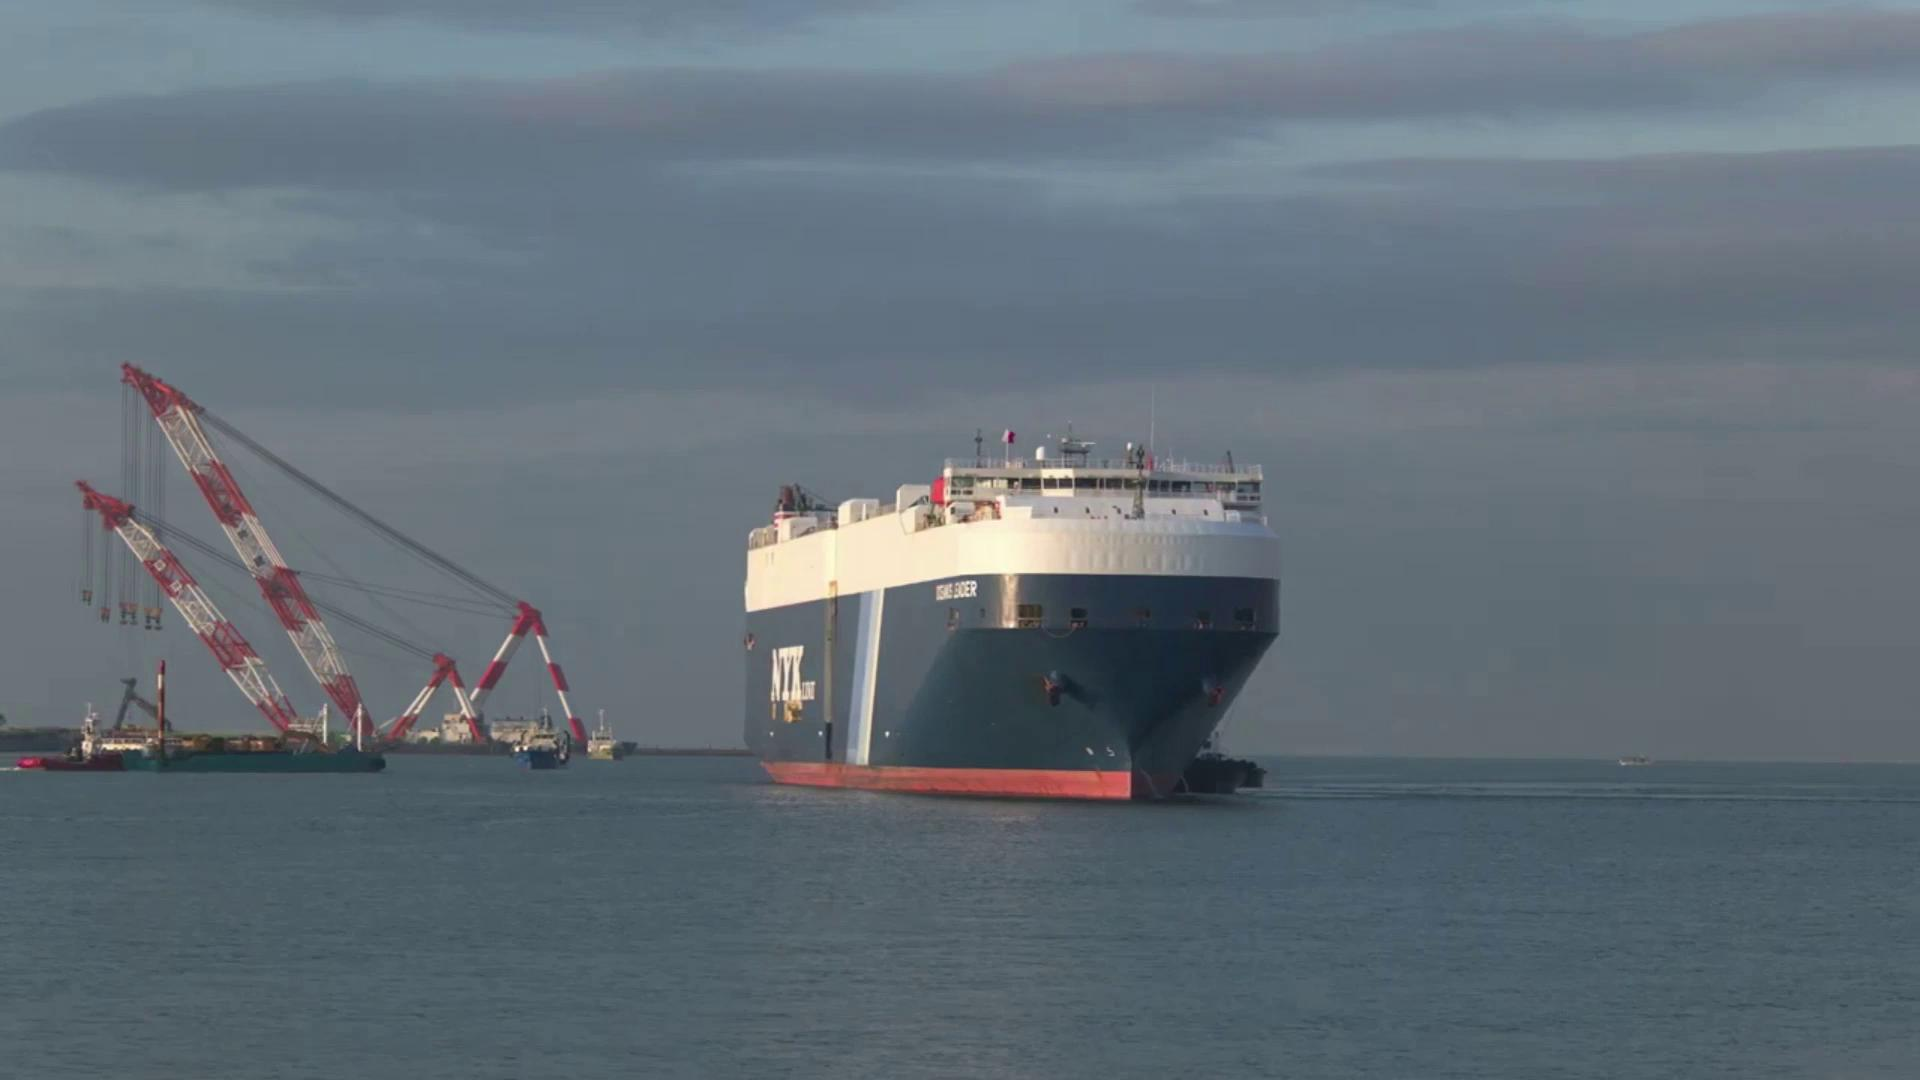OCR: (764, 641, 822, 712), (927, 578, 980, 607)
